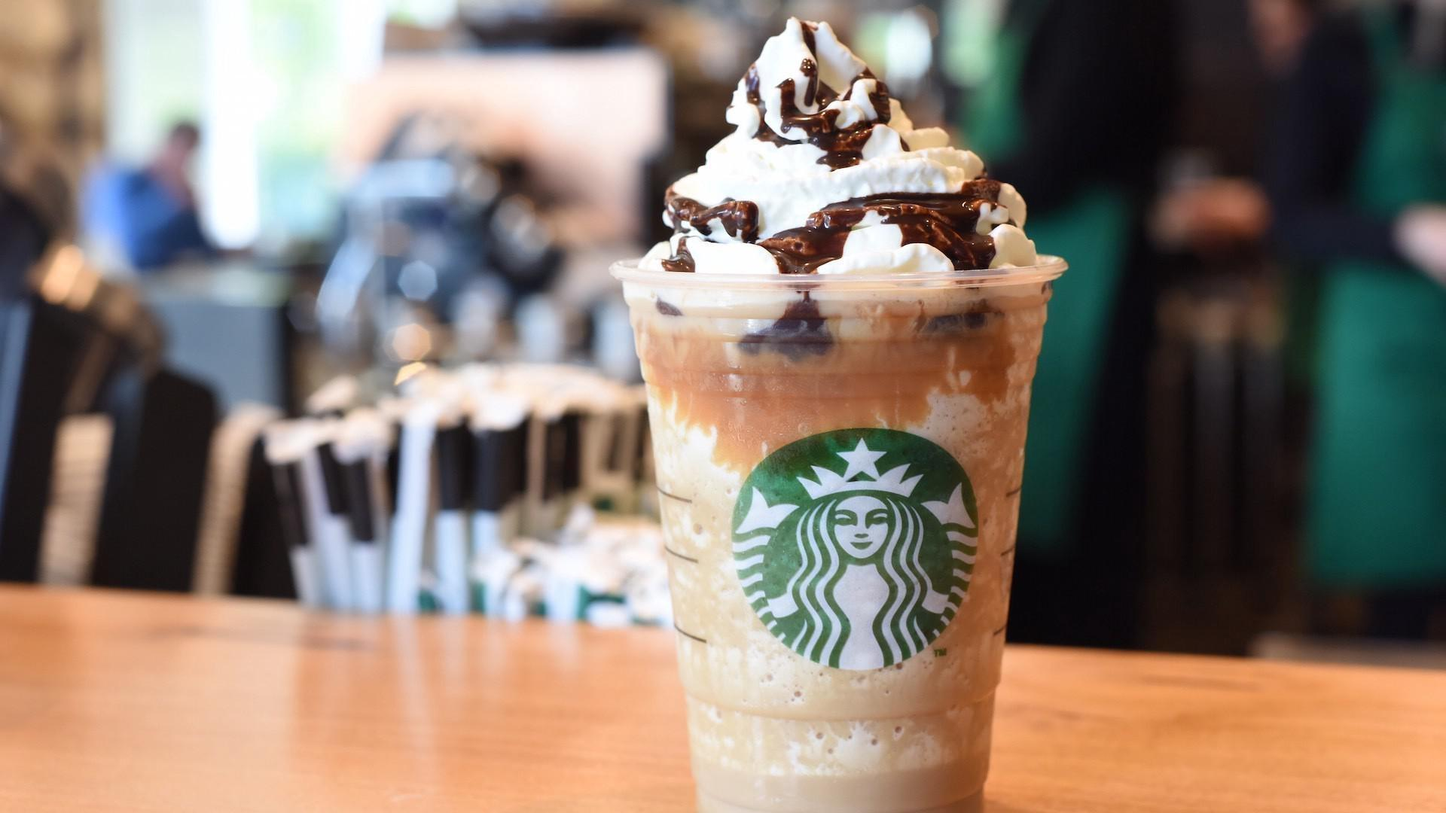cup-disposable: (606, 238, 1069, 809)
